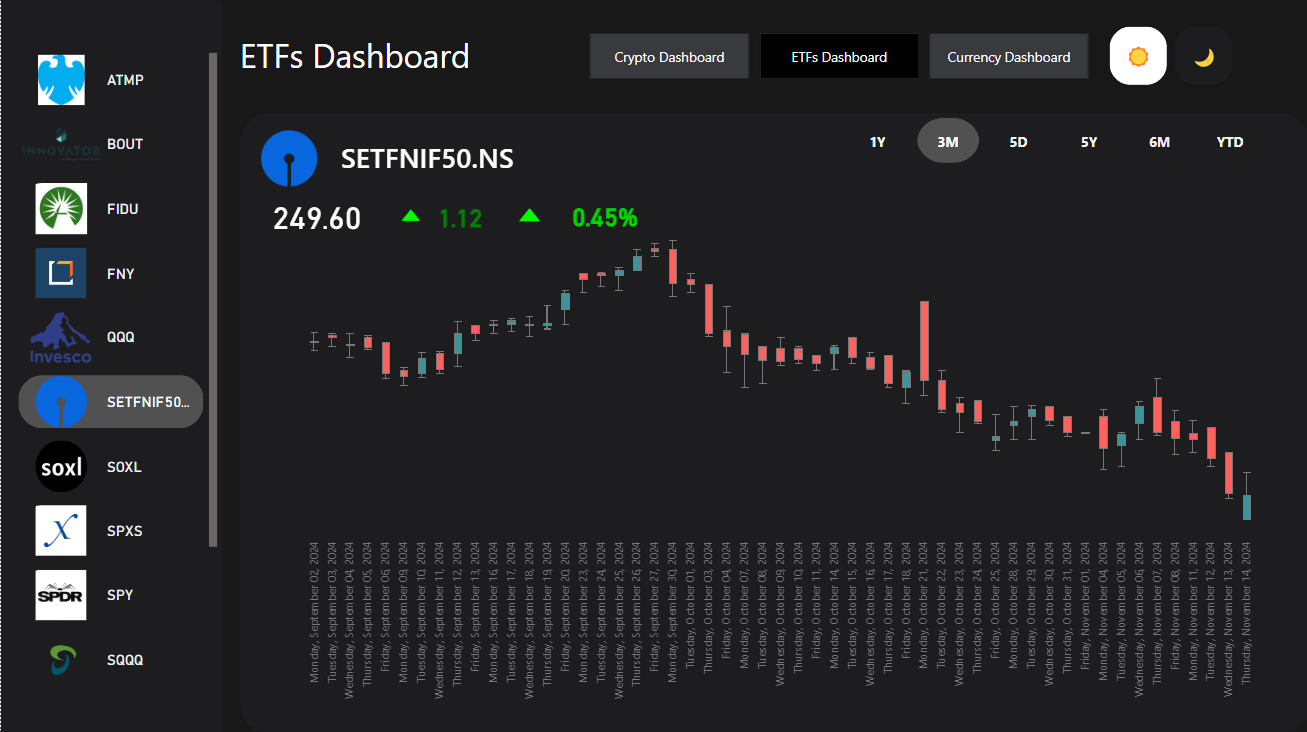

The page's visual inventory and layout, read from the dashboard file:
{"tool":"powerbi","page":{"name":"ETFs Dashboard","canvas":[1280,720],"ordinal":2},"visuals":[{"type":"shape","box":[0,0,1280.3,720.2],"z":0},{"type":"shape","box":[0,0,216.8,720.4],"z":1000},{"type":"shape","box":[233.6,112.5,1046.7,607.7],"z":2000},{"type":"PBI_CV_886A053E_9DFD_4EA0_A47D_CCAEB89AF969","fields":{"Category":["Stocks Data.Date"],"open":["Sum(Stocks Data.Open)"],"close":["Sum(Stocks Data.Close)"],"high":["Sum(Stocks Data.High)"],"low":["Sum(Stocks Data.Low)"]},"box":[233.3,186.6,1047,533.8],"z":3000},{"type":"advancedSlicerVisual","fields":{"Values":["Stocks Data.Symbol"]},"box":[12.3,49.4,204.5,635.3],"z":4000},{"type":"advancedSlicerVisual","fields":{"Values":["Stocks Data.Date Category"]},"box":[822,112.5,419.9,54.9],"z":5000},{"type":"advancedSlicerVisual","fields":{"Values":["Sheet1.Icon"]},"box":[1079.9,23.3,131.7,67.2],"z":6000},{"type":"cardVisual","fields":{"Data":["CountNonNull(Stocks Data.Logo)"]},"box":[233.3,112.5,101.5,90.6],"z":7000},{"type":"cardVisual","fields":{"Data":["Min(Stocks Data.Symbol)"]},"box":[315.6,112.5,204.5,76.8],"z":8000},{"type":"card","fields":{"Values":["Stocks Data.Open_value"]},"box":[215.4,113.9,188,199],"z":9000},{"type":"card","fields":{"Values":["Stocks Data.Open_close_diff"]},"box":[377.4,164.7,142.7,100.2],"z":10000},{"type":"card","fields":{"Values":["Stocks Data.Diff%"]},"box":[520.1,163.3,142.7,100.2],"z":11000},{"type":"cardVisual","fields":{"Data":["CountNonNull(Stocks Data.Logo)"]},"box":[370.5,178.4,65.9,72.7],"z":12000},{"type":"cardVisual","fields":{"Data":["CountNonNull(Stocks Data.Logo)"]},"box":[485.8,178.4,67.2,71.4],"z":13000},{"type":"shape","box":[233.6,8.6,836.4,92.9],"z":14000},{"type":"pageNavigator","box":[576,34.2,490.4,45.2],"z":15000}]}

Visuals, with their boxes in screenshot pixels (x1, y1, x2, y2), scaled from the page's 1280x720 canvas onto the 1307x732 screenshot:
shape: region(0, 0, 1306, 731)
shape: region(0, 0, 221, 731)
shape: region(239, 114, 1306, 731)
PBI_CV_886A053E_9DFD_4EA0_A47D_CCAEB89AF969 - Stocks Data.Date x Sum(Stocks Data.Open): region(238, 190, 1306, 731)
advancedSlicerVisual - Stocks Data.Symbol: region(13, 50, 221, 696)
advancedSlicerVisual - Stocks Data.Date Category: region(839, 114, 1268, 170)
advancedSlicerVisual - Sheet1.Icon: region(1103, 24, 1237, 92)
cardVisual - CountNonNull(Stocks Data.Logo): region(238, 114, 342, 206)
cardVisual - Min(Stocks Data.Symbol): region(322, 114, 531, 192)
card - Stocks Data.Open_value: region(220, 116, 412, 318)
card - Stocks Data.Open_close_diff: region(385, 167, 531, 269)
card - Stocks Data.Diff%: region(531, 166, 677, 268)
cardVisual - CountNonNull(Stocks Data.Logo): region(378, 181, 446, 255)
cardVisual - CountNonNull(Stocks Data.Logo): region(496, 181, 565, 254)
shape: region(239, 9, 1093, 103)
pageNavigator: region(588, 35, 1089, 81)
